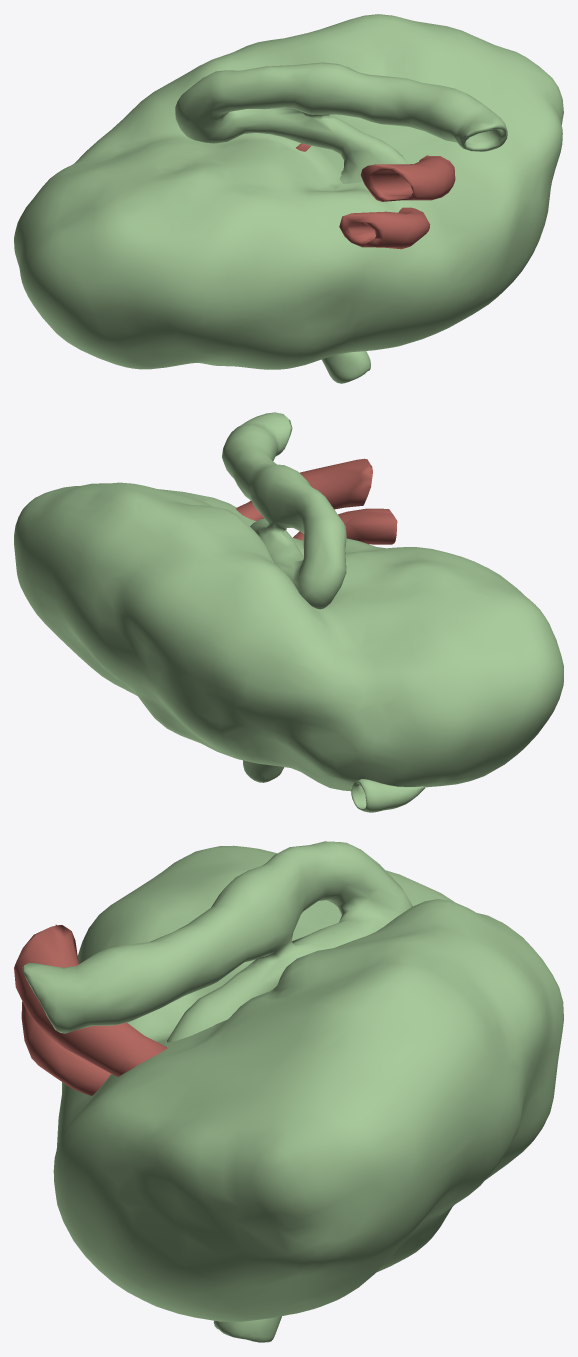
File: module_tissue_lymph_node.lymphatic.LOD0.glb
The picture shows the model from 3 angles, top to bottom: view 1: azimuth 30°, elevation 25°; view 2: azimuth 150°, elevation 25°; view 3: azimuth 270°, elevation 25°; orthographic projection. The views are drawn at different scales.
Parts seen in each view (by area): view 1: MODULE.TISSUE.LYMPH_NODE.CAPSULE_OF_LYMPH_NODE, MODULE.TISSUE.LYMPH_NODE.EFFERENT_LYMPH_NODE, MODULE.TISSUE.LYMPH_NODE.BLOOD_VASCULATURE, MODULE.TISSUE.LYMPH_NODE.AFFERENT_LYMPHATIC_VESSEL; view 2: MODULE.TISSUE.LYMPH_NODE.CAPSULE_OF_LYMPH_NODE, MODULE.TISSUE.LYMPH_NODE.EFFERENT_LYMPH_NODE, MODULE.TISSUE.LYMPH_NODE.BLOOD_VASCULATURE, MODULE.TISSUE.LYMPH_NODE.AFFERENT_LYMPHATIC_VESSEL; view 3: MODULE.TISSUE.LYMPH_NODE.CAPSULE_OF_LYMPH_NODE, MODULE.TISSUE.LYMPH_NODE.EFFERENT_LYMPH_NODE, MODULE.TISSUE.LYMPH_NODE.BLOOD_VASCULATURE, MODULE.TISSUE.LYMPH_NODE.AFFERENT_LYMPHATIC_VESSEL.
Boxes of the visible parts, x1=… form: MODULE.TISSUE.LYMPH_NODE.CAPSULE_OF_LYMPH_NODE: x1=14, y1=14, x2=563, y2=369; MODULE.TISSUE.LYMPH_NODE.EFFERENT_LYMPH_NODE: x1=175, y1=62, x2=507, y2=183; MODULE.TISSUE.LYMPH_NODE.BLOOD_VASCULATURE: x1=296, y1=143, x2=455, y2=249; MODULE.TISSUE.LYMPH_NODE.AFFERENT_LYMPHATIC_VESSEL: x1=321, y1=351, x2=370, y2=383; MODULE.TISSUE.LYMPH_NODE.CAPSULE_OF_LYMPH_NODE: x1=14, y1=482, x2=563, y2=791; MODULE.TISSUE.LYMPH_NODE.EFFERENT_LYMPH_NODE: x1=222, y1=412, x2=346, y2=609; MODULE.TISSUE.LYMPH_NODE.BLOOD_VASCULATURE: x1=236, y1=458, x2=397, y2=544; MODULE.TISSUE.LYMPH_NODE.AFFERENT_LYMPHATIC_VESSEL: x1=243, y1=760, x2=425, y2=812; MODULE.TISSUE.LYMPH_NODE.CAPSULE_OF_LYMPH_NODE: x1=53, y1=845, x2=563, y2=1321; MODULE.TISSUE.LYMPH_NODE.EFFERENT_LYMPH_NODE: x1=22, y1=841, x2=412, y2=1042; MODULE.TISSUE.LYMPH_NODE.BLOOD_VASCULATURE: x1=14, y1=924, x2=167, y2=1095; MODULE.TISSUE.LYMPH_NODE.AFFERENT_LYMPHATIC_VESSEL: x1=213, y1=1316, x2=281, y2=1342.
Size of the model in its own units: 0.0196 by 0.0113 by 0.0125.
